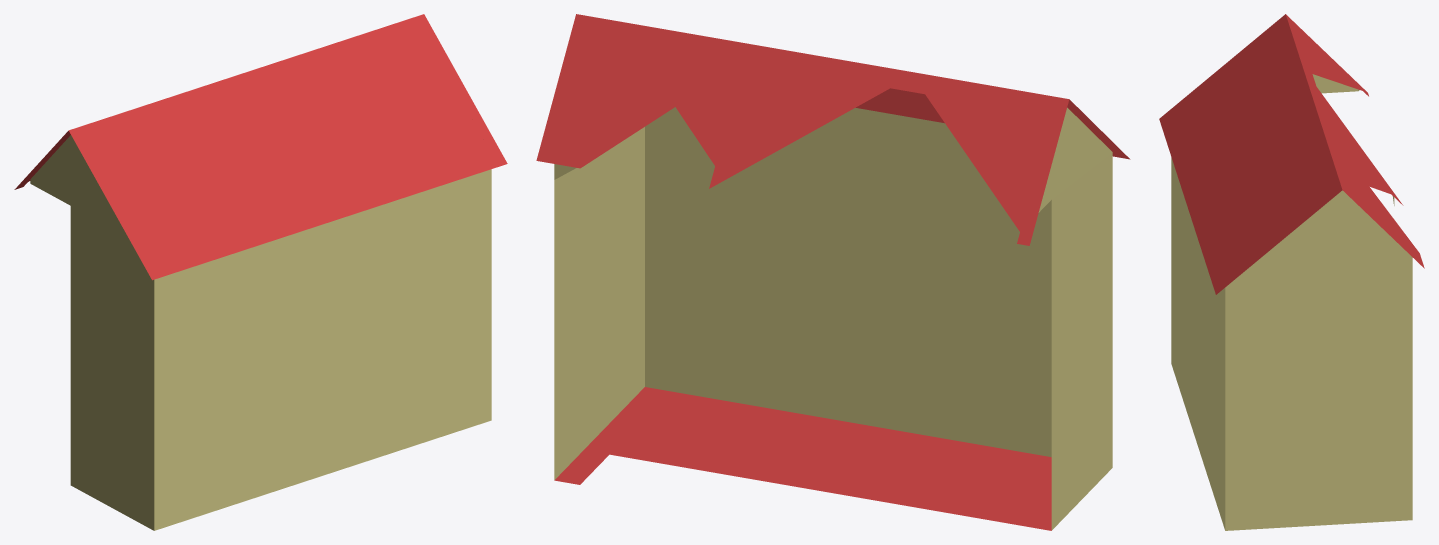
The picture shows the model from 3 angles, left to right: view 1: azimuth 30°, elevation 25°; view 2: azimuth 150°, elevation 25°; view 3: azimuth 270°, elevation 25°; orthographic projection. The views are drawn at different scales.
Size of the model in its own units: 20.59 by 12.28 by 17.27.
